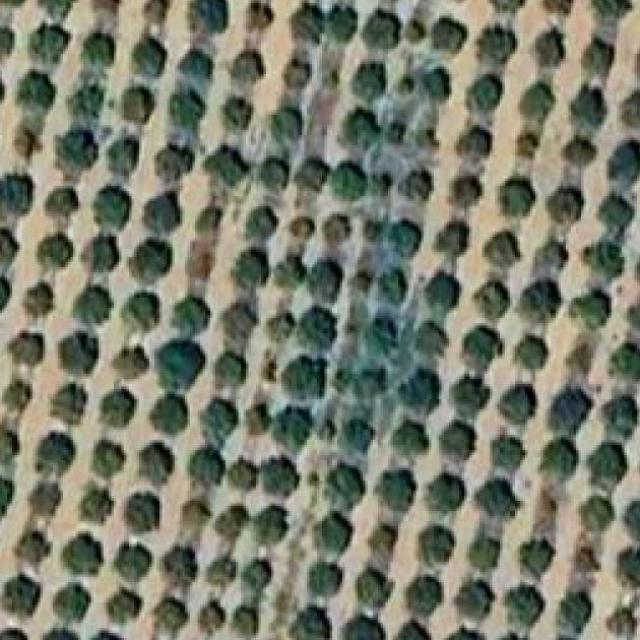Tree: (156, 340, 206, 391), (547, 386, 591, 437), (587, 443, 627, 492), (55, 130, 95, 179), (128, 240, 172, 283), (202, 145, 248, 186), (327, 463, 366, 511), (281, 357, 324, 400), (201, 399, 238, 448), (397, 369, 439, 412), (272, 408, 312, 453), (462, 327, 502, 372), (503, 584, 542, 630), (476, 478, 520, 518), (521, 280, 561, 324), (35, 433, 75, 476), (59, 333, 98, 377), (60, 534, 101, 575), (2, 575, 41, 618), (376, 470, 415, 513), (540, 438, 579, 481), (455, 579, 495, 620), (475, 25, 515, 66), (451, 377, 490, 419), (94, 186, 132, 229), (29, 23, 68, 64), (172, 296, 210, 338), (404, 575, 441, 618), (143, 191, 180, 234), (570, 84, 606, 128), (425, 474, 464, 514), (259, 458, 299, 497), (71, 286, 111, 325), (314, 513, 352, 554), (363, 10, 401, 51), (150, 394, 187, 436), (582, 242, 624, 279), (601, 397, 637, 440), (189, 445, 225, 488), (17, 72, 56, 111), (607, 140, 640, 186), (473, 279, 510, 320), (343, 108, 380, 149), (298, 308, 334, 350), (137, 443, 172, 486), (170, 89, 205, 132), (0, 173, 31, 221), (569, 291, 608, 329), (499, 384, 535, 425), (232, 250, 268, 291), (598, 193, 634, 234), (50, 384, 85, 426), (518, 82, 553, 124), (557, 592, 591, 635), (114, 545, 152, 583), (162, 547, 197, 588), (424, 272, 459, 313), (308, 260, 342, 302), (355, 567, 390, 607), (132, 36, 167, 76), (219, 301, 256, 338), (123, 293, 159, 331), (499, 178, 535, 216), (154, 145, 190, 183), (152, 597, 187, 636), (53, 585, 88, 624), (518, 539, 553, 578), (419, 526, 454, 565), (386, 219, 421, 258), (80, 483, 114, 523), (252, 506, 286, 546), (289, 3, 322, 44), (392, 420, 429, 456), (484, 232, 520, 269), (329, 164, 365, 201), (439, 423, 474, 461), (100, 389, 134, 428), (126, 493, 159, 533), (362, 315, 395, 355), (582, 37, 614, 78), (84, 235, 119, 272), (467, 74, 502, 111), (90, 440, 124, 478), (324, 3, 358, 41), (352, 62, 385, 101), (579, 496, 614, 532), (106, 589, 141, 625), (7, 332, 43, 367), (466, 536, 500, 573), (432, 18, 466, 55), (121, 87, 154, 125), (191, 0, 229, 33), (106, 137, 136, 178), (213, 506, 248, 541), (338, 420, 373, 455), (14, 531, 50, 565), (491, 435, 525, 471), (514, 335, 548, 371), (547, 189, 581, 225), (456, 128, 492, 162), (433, 221, 466, 258), (533, 29, 563, 69), (412, 321, 446, 356), (67, 84, 101, 119), (290, 609, 328, 640), (309, 562, 342, 597), (22, 282, 53, 319), (112, 346, 146, 379), (295, 158, 329, 191), (611, 343, 640, 381), (39, 234, 70, 269), (376, 270, 405, 307), (563, 135, 596, 167), (230, 52, 263, 84), (82, 34, 114, 67), (29, 484, 60, 518), (245, 206, 276, 240), (397, 171, 431, 202), (178, 49, 212, 80), (241, 559, 271, 594), (345, 614, 385, 640), (536, 240, 568, 272), (177, 501, 210, 532), (352, 369, 385, 400), (273, 255, 304, 288), (258, 158, 289, 191), (222, 98, 253, 131), (606, 607, 637, 639), (450, 176, 482, 207), (0, 378, 30, 411), (228, 458, 258, 491), (199, 599, 226, 635), (271, 110, 302, 141), (421, 69, 449, 103), (45, 189, 78, 217), (618, 549, 640, 591), (14, 125, 40, 160), (266, 313, 295, 343), (283, 59, 312, 89), (216, 357, 243, 389), (232, 605, 258, 638), (565, 343, 591, 376), (369, 524, 398, 553), (206, 557, 236, 585), (322, 216, 351, 244), (0, 429, 21, 466), (395, 620, 431, 640), (245, 404, 268, 435), (621, 89, 639, 128), (624, 498, 640, 541), (573, 546, 598, 573), (591, 0, 630, 17), (0, 229, 18, 265), (39, 0, 77, 17), (247, 3, 271, 28), (288, 216, 314, 239), (514, 134, 537, 159), (144, 0, 167, 24), (370, 174, 393, 197), (0, 476, 12, 519), (444, 628, 485, 640), (405, 21, 426, 44), (202, 210, 221, 235), (417, 128, 439, 149), (353, 270, 373, 293), (489, 0, 527, 12), (42, 628, 78, 640), (317, 419, 335, 442), (542, 0, 571, 14), (626, 301, 639, 332), (388, 123, 406, 145), (333, 369, 350, 391), (0, 26, 12, 57), (0, 628, 28, 640), (92, 0, 119, 12), (366, 221, 381, 242), (90, 631, 124, 640), (397, 77, 414, 95), (262, 362, 276, 383), (0, 279, 7, 314), (494, 633, 527, 640), (635, 257, 640, 282), (309, 474, 319, 486), (0, 0, 25, 4)
